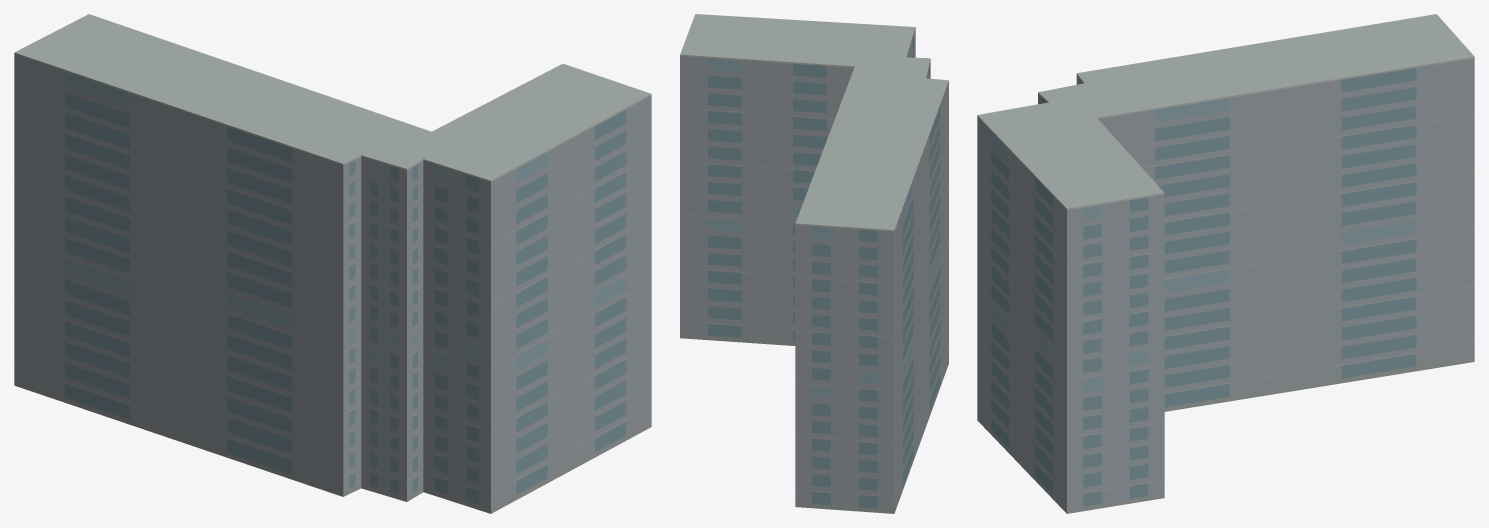
The model's file is residential-880e7dc1-47a1-4f73-b259-0bb84187f4ac.glb.
The picture shows the model from 3 angles, left to right: view 1: azimuth 30°, elevation 25°; view 2: azimuth 150°, elevation 25°; view 3: azimuth 270°, elevation 25°; orthographic projection. The views are drawn at different scales.
Visible parts, largest first — view 1: residential-880e7dc1-47a1-4f73-b259-0bb84187f4ac.tmp; view 2: residential-880e7dc1-47a1-4f73-b259-0bb84187f4ac.tmp; view 3: residential-880e7dc1-47a1-4f73-b259-0bb84187f4ac.tmp.
Part boxes in pixels (box(x1,y1,x2,y2)): residential-880e7dc1-47a1-4f73-b259-0bb84187f4ac.tmp: box(14, 14, 651, 513); residential-880e7dc1-47a1-4f73-b259-0bb84187f4ac.tmp: box(680, 14, 948, 513); residential-880e7dc1-47a1-4f73-b259-0bb84187f4ac.tmp: box(977, 14, 1474, 513).
Bounding box in the file's own units: 66.81 × 48.8 × 72.12.
